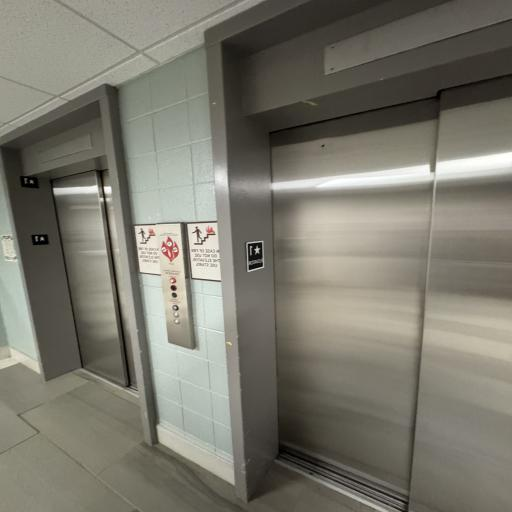elevator buttons: (154, 222, 194, 347)
elevator doors: (232, 0, 512, 512), (40, 79, 118, 386)
